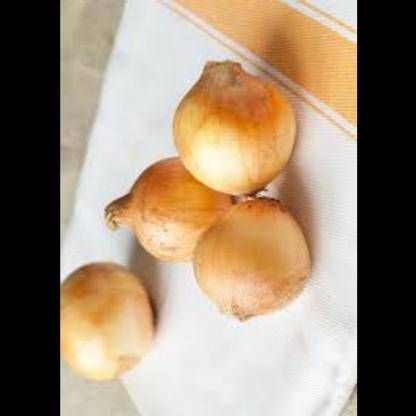onion: (169, 54, 302, 201), (188, 194, 310, 323), (59, 253, 159, 389), (97, 154, 211, 263)
